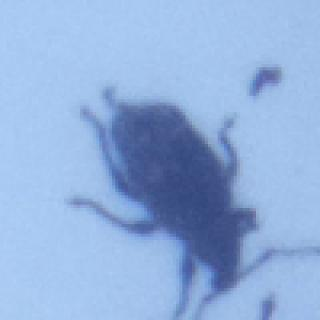bvw: (65, 83, 320, 319)
